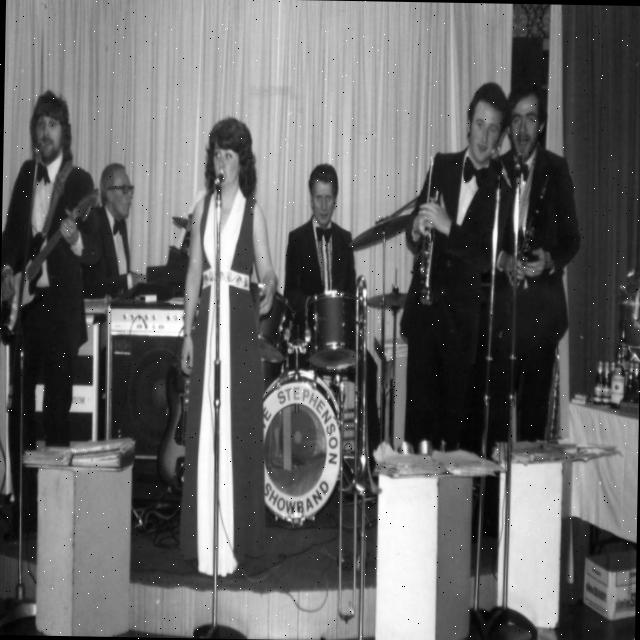clarinet: (496, 170, 554, 352)
drums: (239, 279, 404, 528)
guitar: (0, 183, 100, 350)
